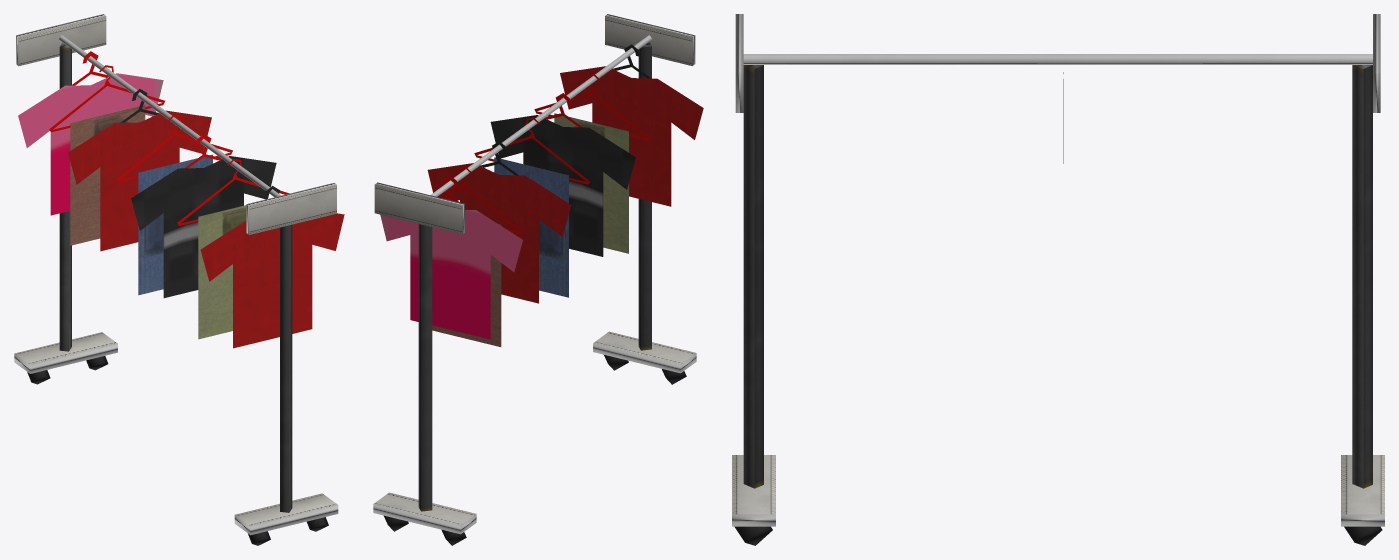
The model's file is Clothes_Rack_TypeA.fbx.
The picture shows the model from 3 angles, left to right: view 1: azimuth 30°, elevation 25°; view 2: azimuth 150°, elevation 25°; view 3: azimuth 270°, elevation 25°; orthographic projection. The views are drawn at different scales.
Visible parts, largest first — view 1: Clothes_Rack_TypeA; view 2: Clothes_Rack_TypeA; view 3: Clothes_Rack_TypeA.
Part boxes in pixels (left/top/right/bottom): Clothes_Rack_TypeA: left=14, top=14, right=344, bottom=545; Clothes_Rack_TypeA: left=373, top=14, right=703, bottom=545; Clothes_Rack_TypeA: left=732, top=14, right=1384, bottom=545.
Bounding box in the file's own units: 73.32 × 168 × 206.
